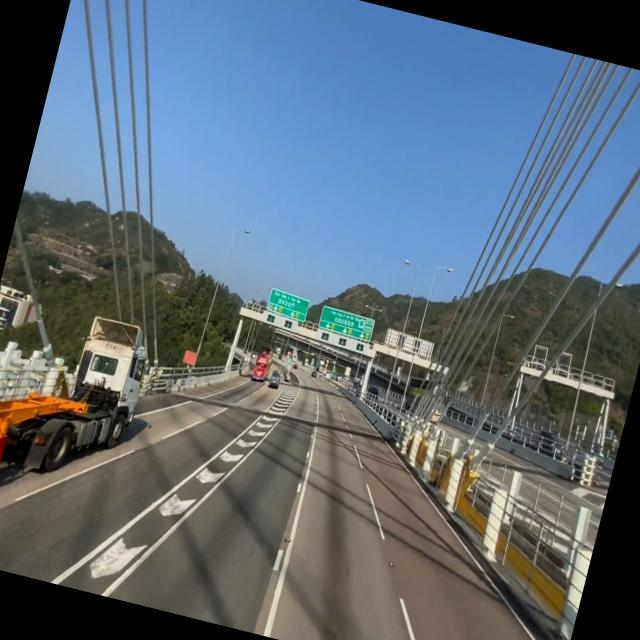Vehicle: (0, 285, 157, 537)
